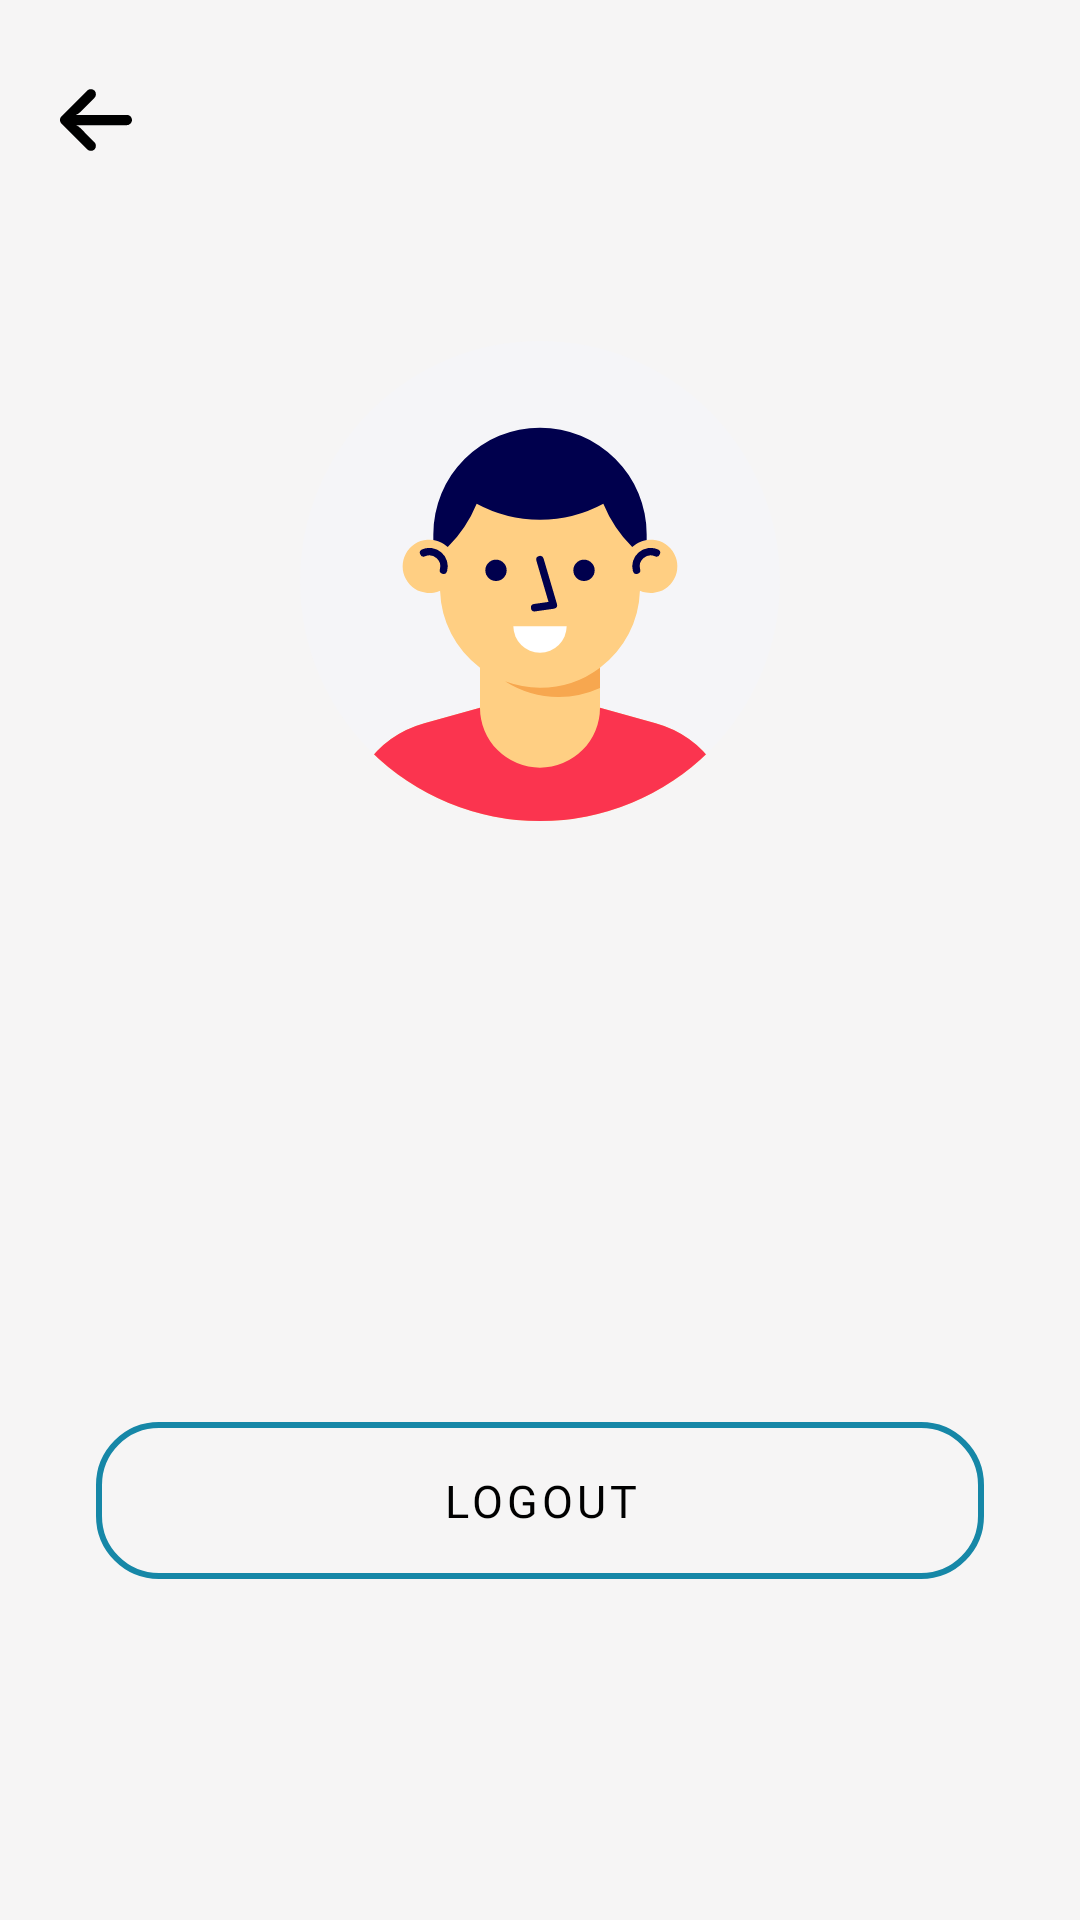

Named icons in this screenshot (1080×1920) and their centers, point (x, y):
back arrow: point (96, 120)
